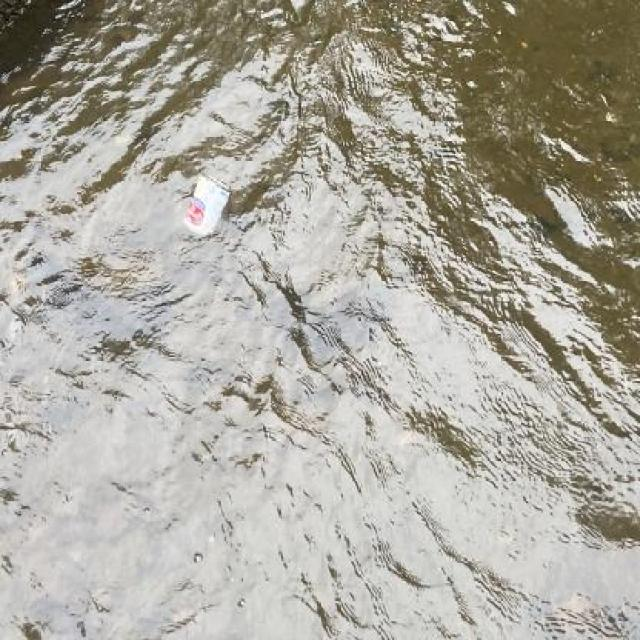Can-Metal: (178, 168, 233, 246)
